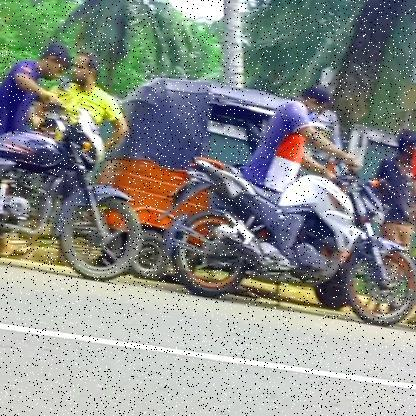motorcycle: (153, 130, 416, 340), (0, 76, 153, 287)
